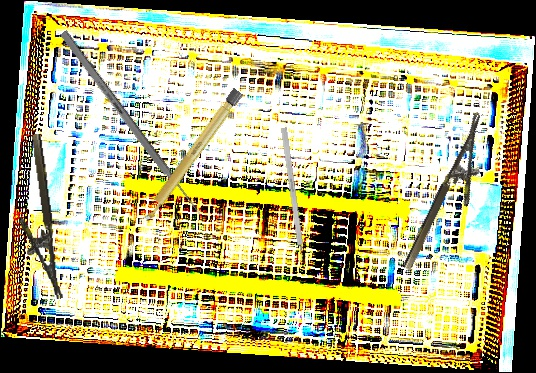Hook Surgical: (280, 127, 308, 273)
Needle Holder: (400, 113, 506, 281), (9, 133, 63, 303)
Pusher: (59, 29, 208, 224)
Scalpel Handle: (139, 87, 244, 224)
